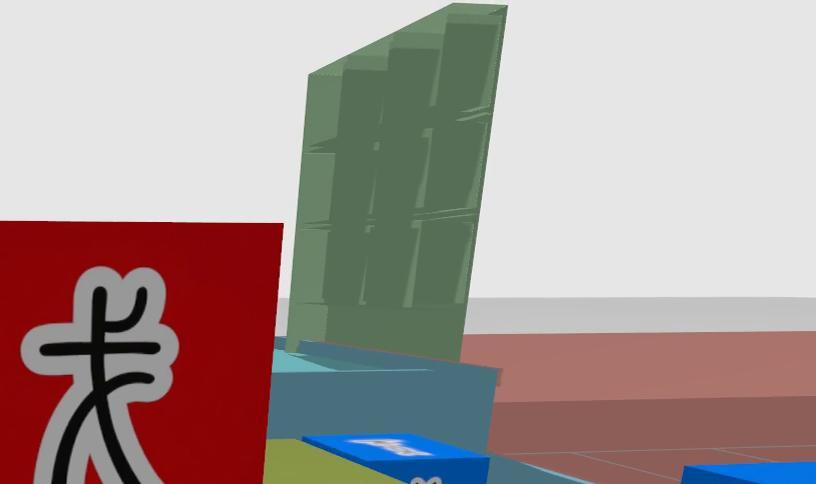KFS_FAKE: (0, 221, 281, 484), (21, 267, 179, 484)
KFS_REAL: (303, 434, 489, 484), (680, 461, 815, 484)
